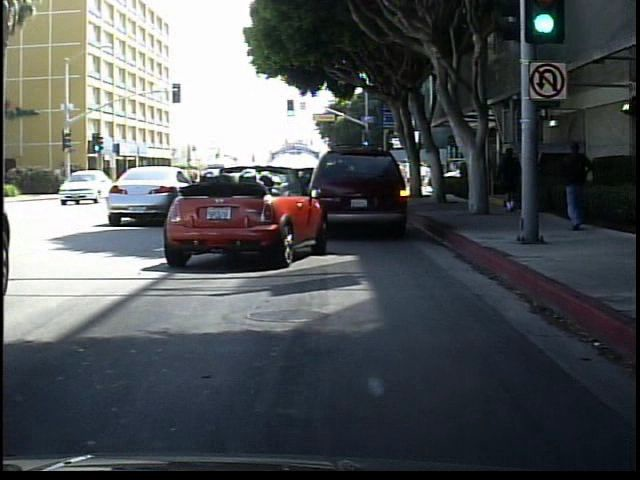person: (555, 133, 602, 240), (495, 140, 523, 213)
